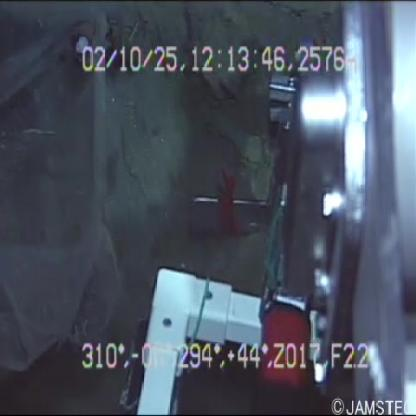Rov: (135, 1, 416, 414)
Rác: (1, 13, 129, 381)
